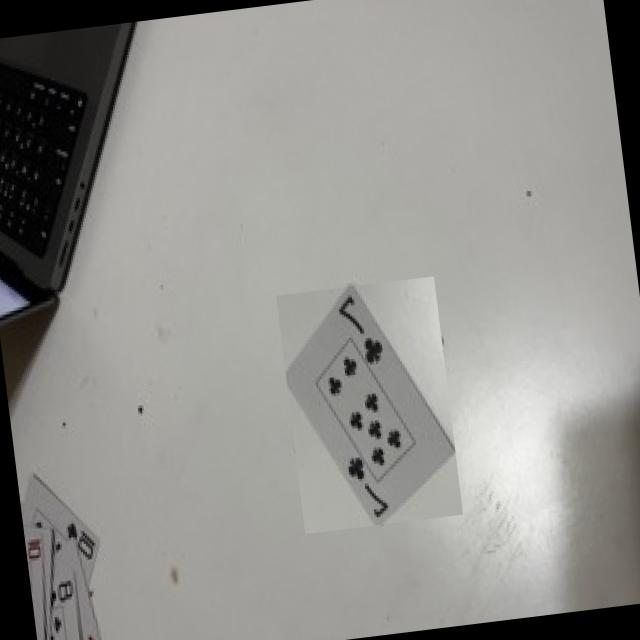7 of clubs: (287, 285, 454, 522)
